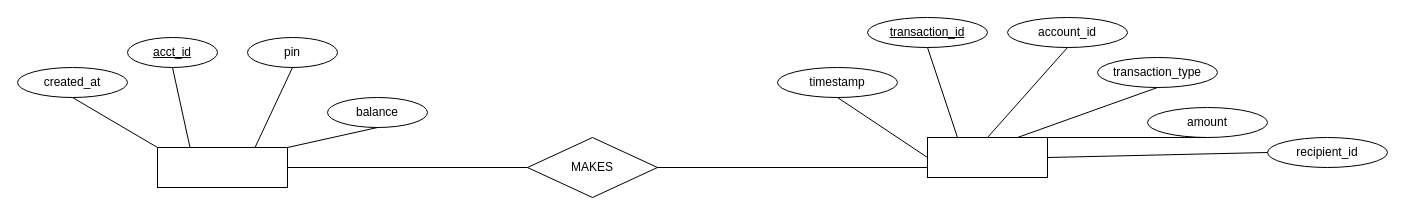
The diagram is 1405 pixels wide and 215 high, and some of its shapes have lost their labels. The shapes that lost their labels are listed below. From the top down, each one's box as (x1, y1, x2, y2) in pixels, then its label:
(156, 146, 288, 188): ACCOUNT
(926, 136, 1048, 178): TRANSACTIONS
